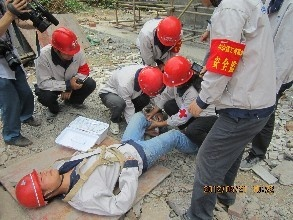falling: (17, 101, 206, 218)
